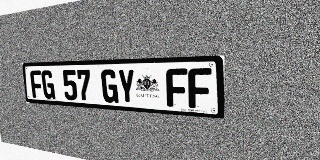5: (62, 70, 78, 101)
7: (76, 70, 92, 102)
F: (188, 68, 211, 109), (166, 68, 188, 108), (30, 70, 43, 98)
G: (101, 69, 118, 103), (41, 70, 55, 99)
Y: (117, 69, 136, 104)
